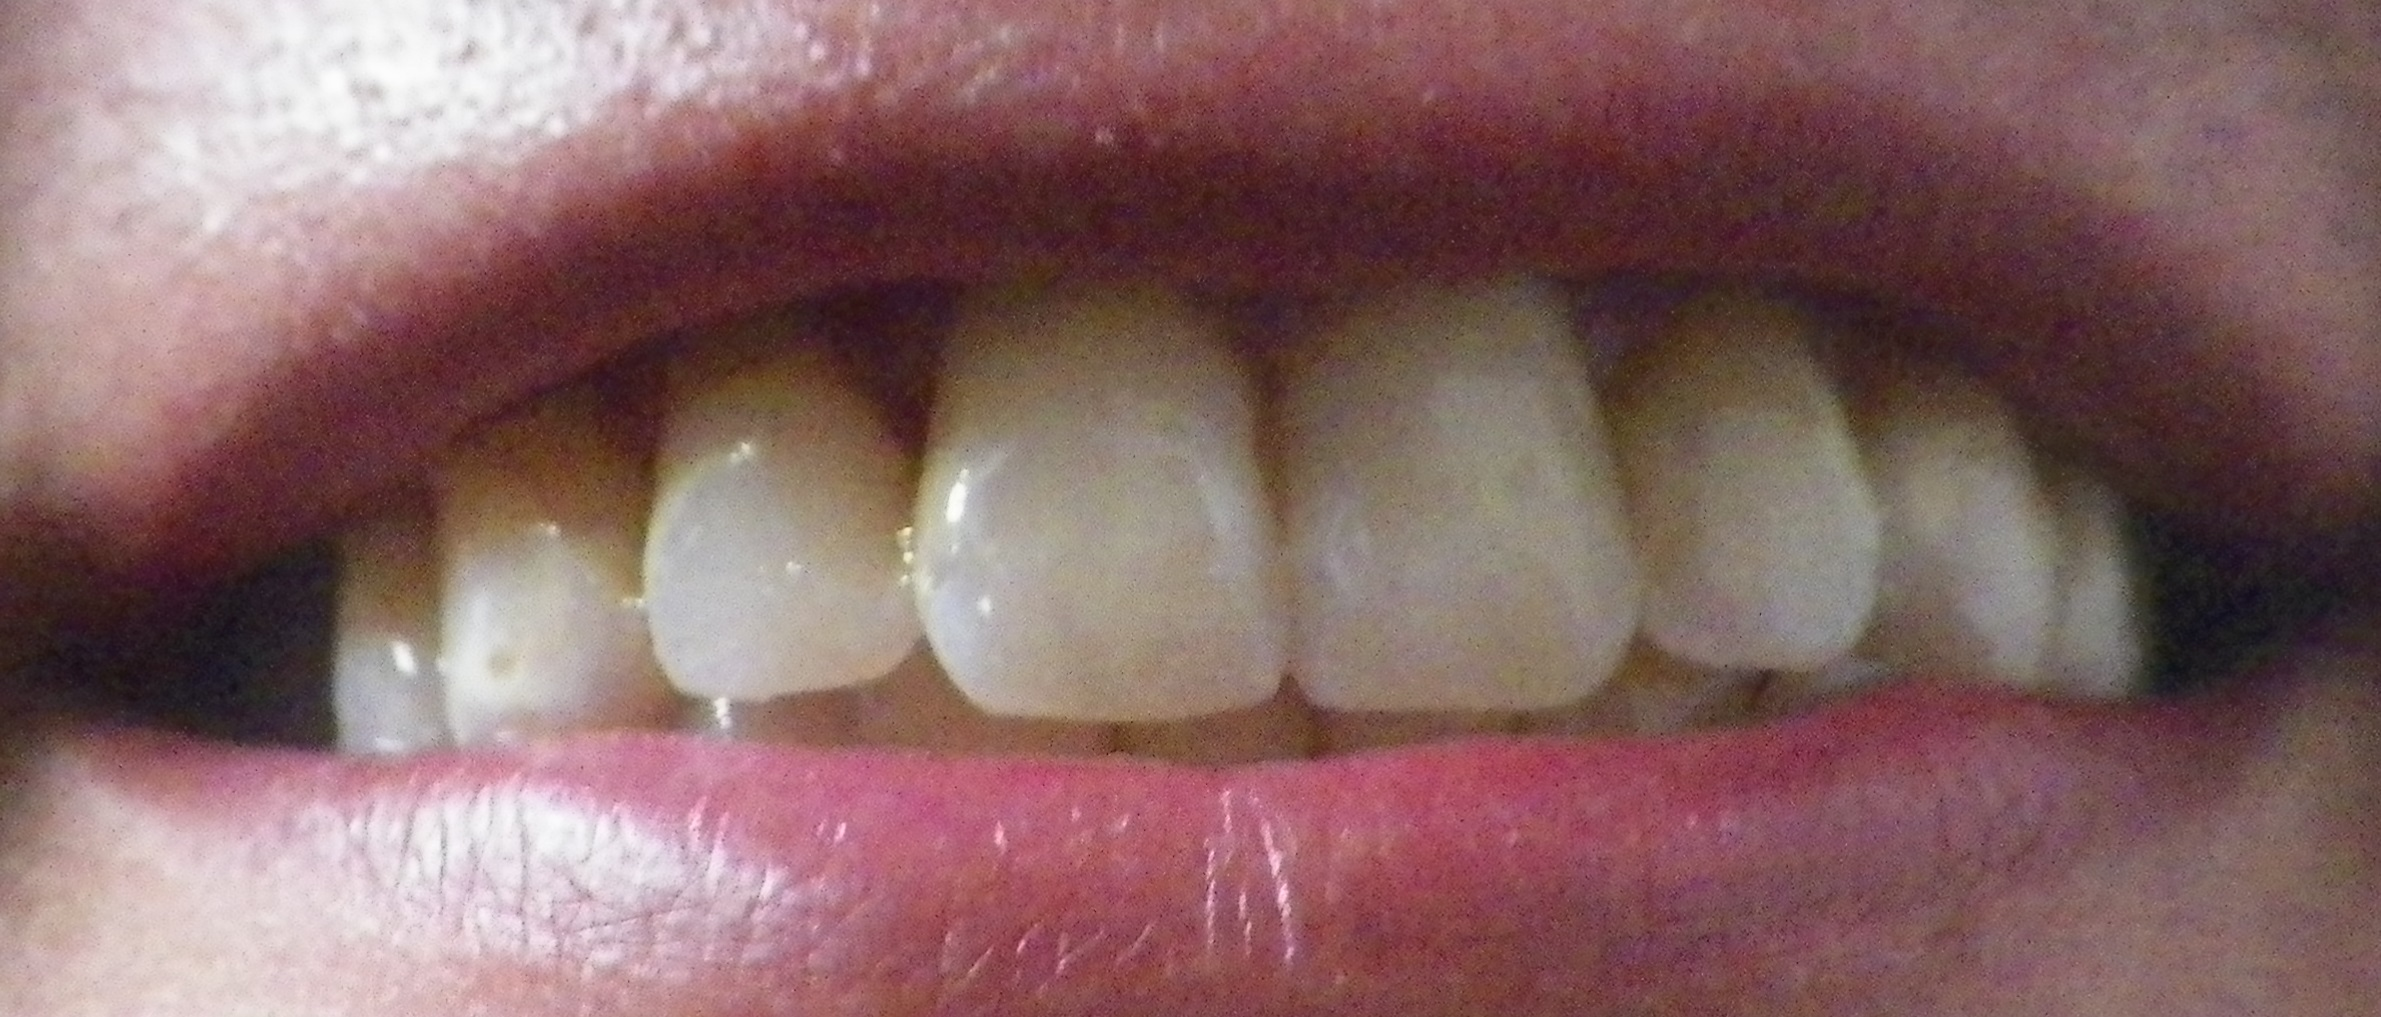boca: (334, 296, 2181, 745)
